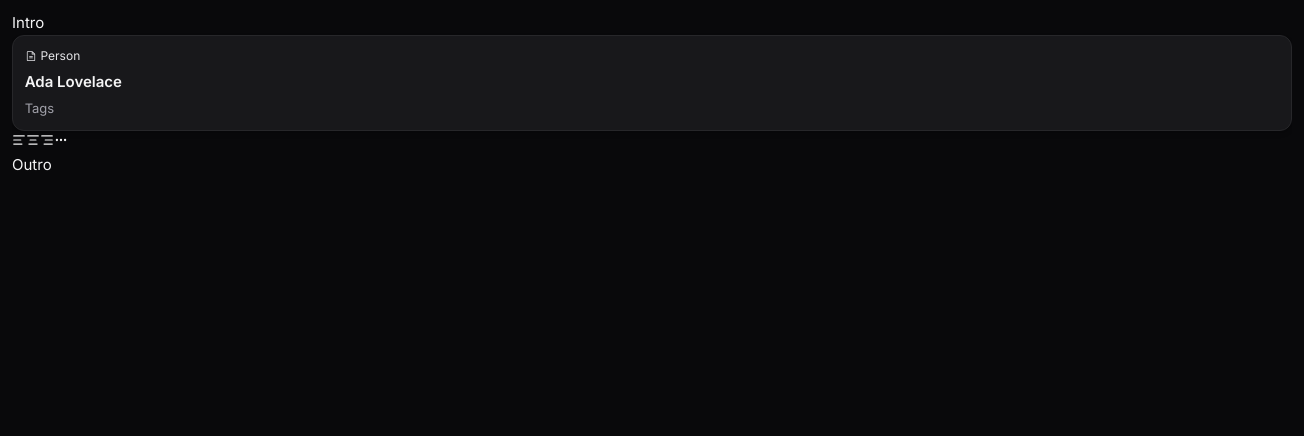
Test case: ObjectEmbedView › test object embed renders each view and change block view writes view
The width and height of the screenshot is (1304, 436).
Later steps or results of the test are not shown.
Check: the button with test id "wide-card" shows "Ada Lovelace", box [12,34,1292,131]
What coordinates should you click on to do the following:
click the button named "Block menu"
I would click on:
 (61, 140)
Its box is [54,133,68,147].
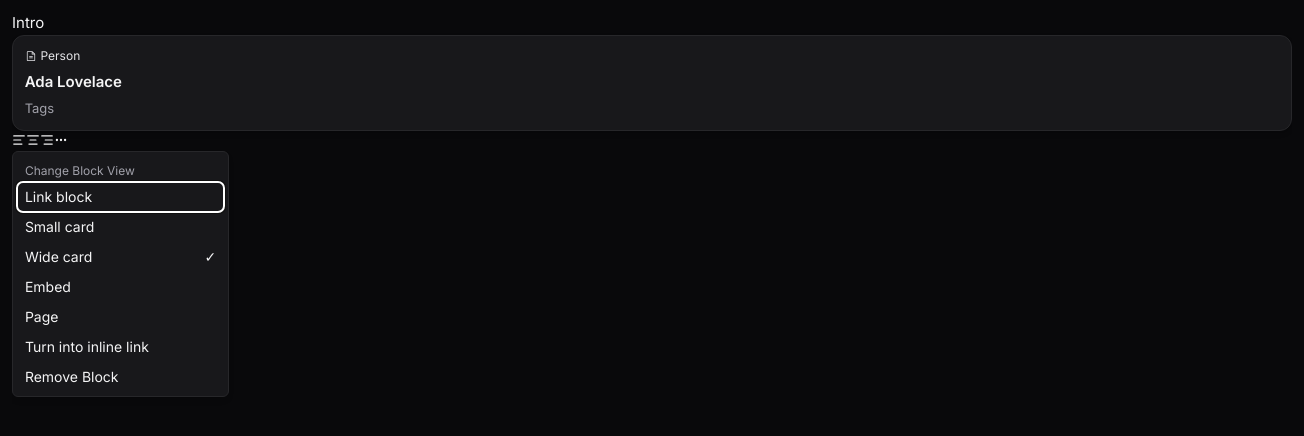
What coordinates should you click on to do the following:
click the menu item "Small card"
I would click on:
 (121, 227)
Its box is [17,212,224,242].
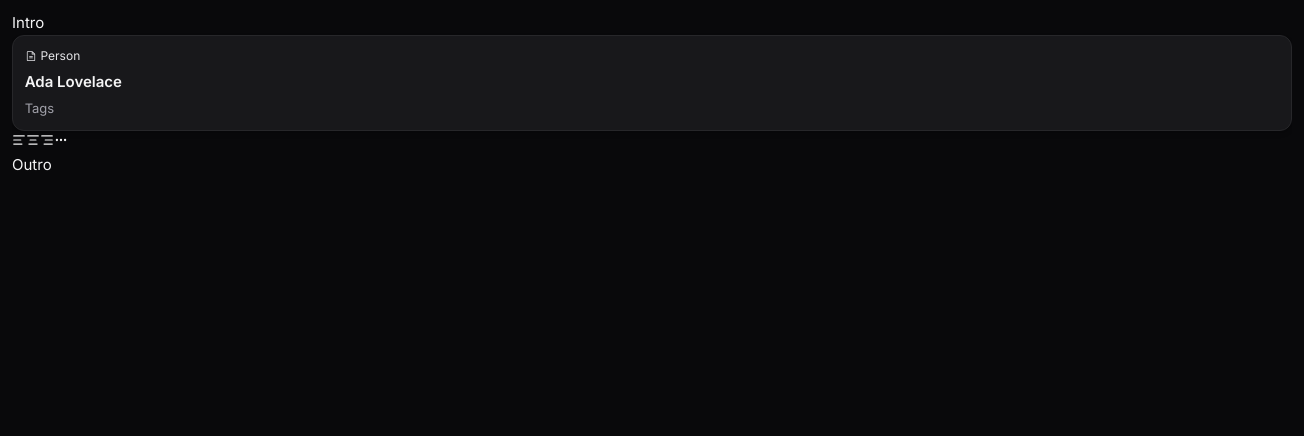
Check: the button with test id "small-card" is shown, box [12,34,1292,131]
What coordinates should you click on to do the following:
click the button named "Block menu"
I would click on:
 (61, 140)
Its box is [54,133,68,147].
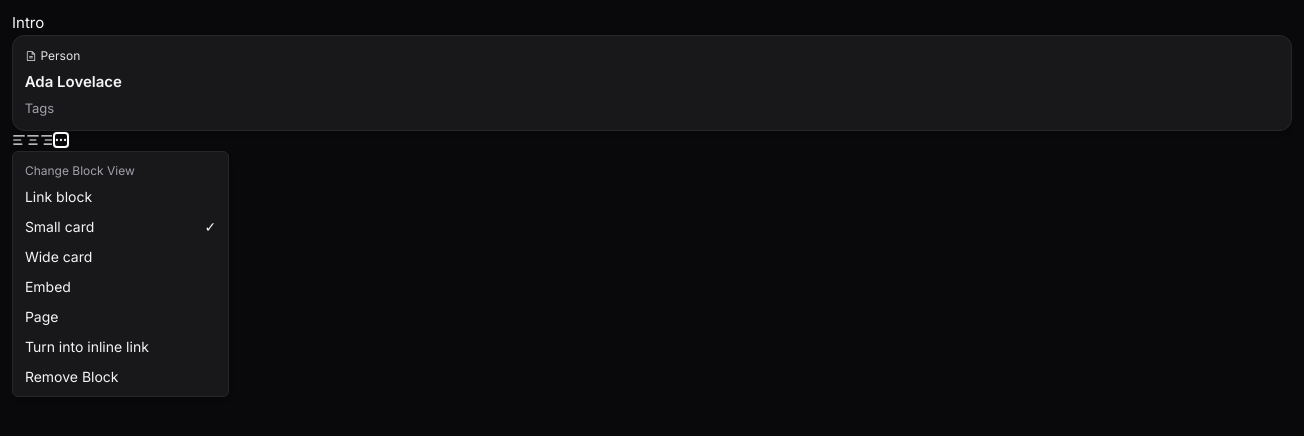
What coordinates should you click on to do the following:
click the menu item "Embed"
I would click on:
 (121, 287)
Its box is [17,272,224,302].
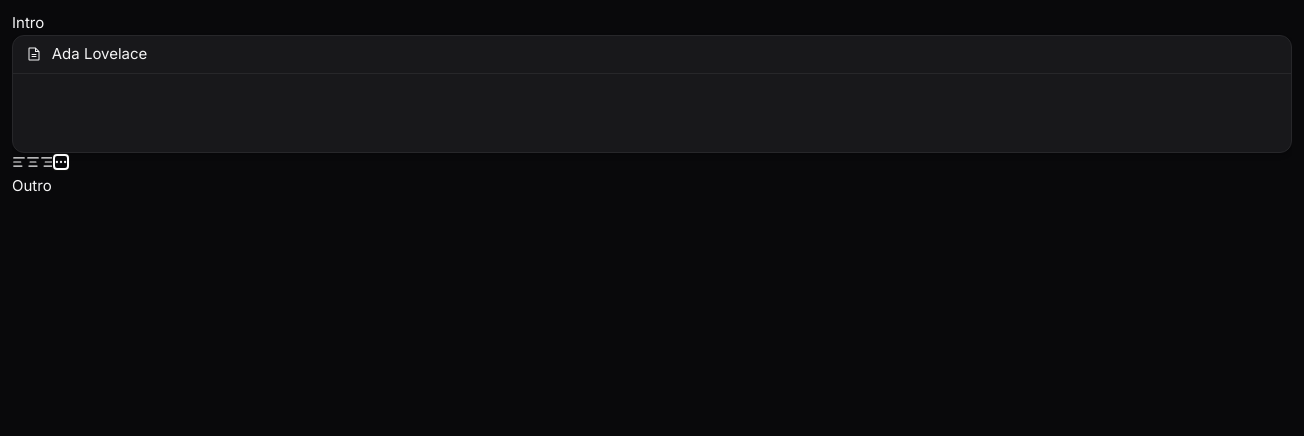
Check: the element with test id "embed-card" is shown, box [12,34,1292,153]
What coordinates should you click on to do the following:
click the button named "Block menu"
I would click on:
 (61, 162)
Its box is [54,155,68,169].
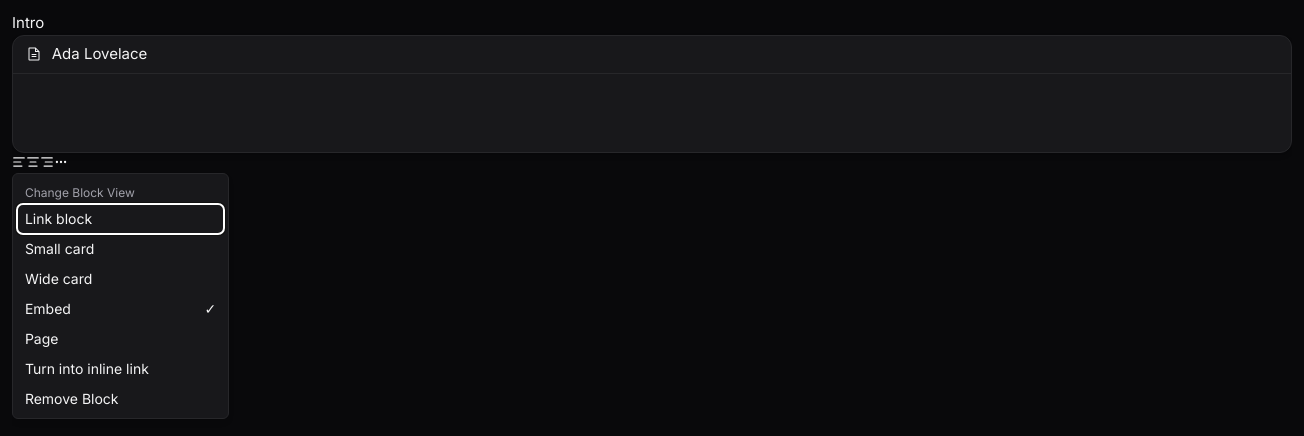
What coordinates should you click on to do the following:
click the menu item "Link block"
I would click on:
 (121, 219)
Its box is [17,204,224,234].
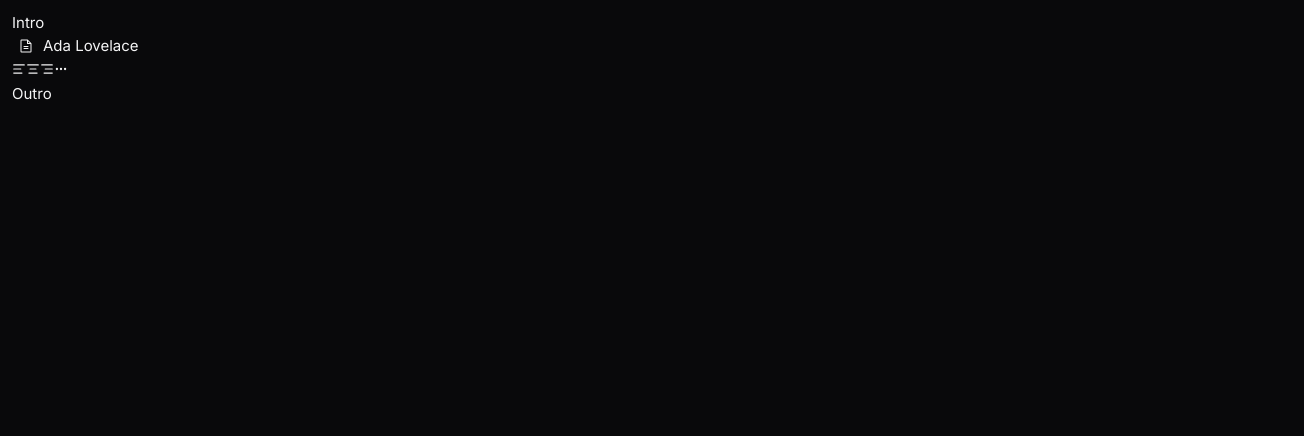
Check: the element with test id "object-embed" has attribute data-view="inline", box [12,34,142,76]
